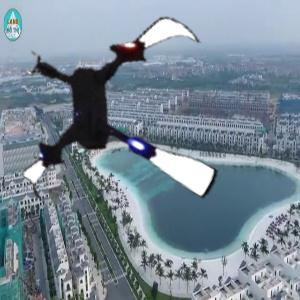drone: (6, 2, 243, 239)
